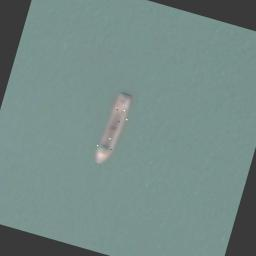boat: (92, 91, 134, 168)
